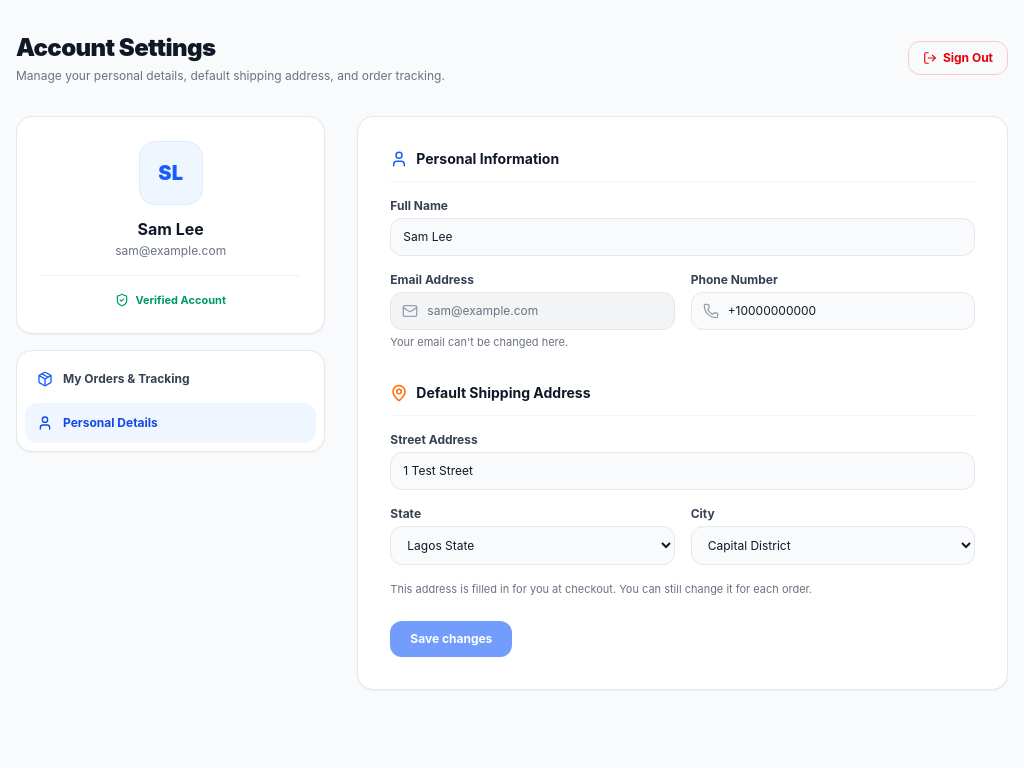
Profile page › changing the state clears the city and offers that state's cities
The width and height of the screenshot is (1024, 768).
Select "Bauchi State (Primary Local Hub)" in the dropdown labelled "State" at point(532, 545), box [390, 526, 675, 564]
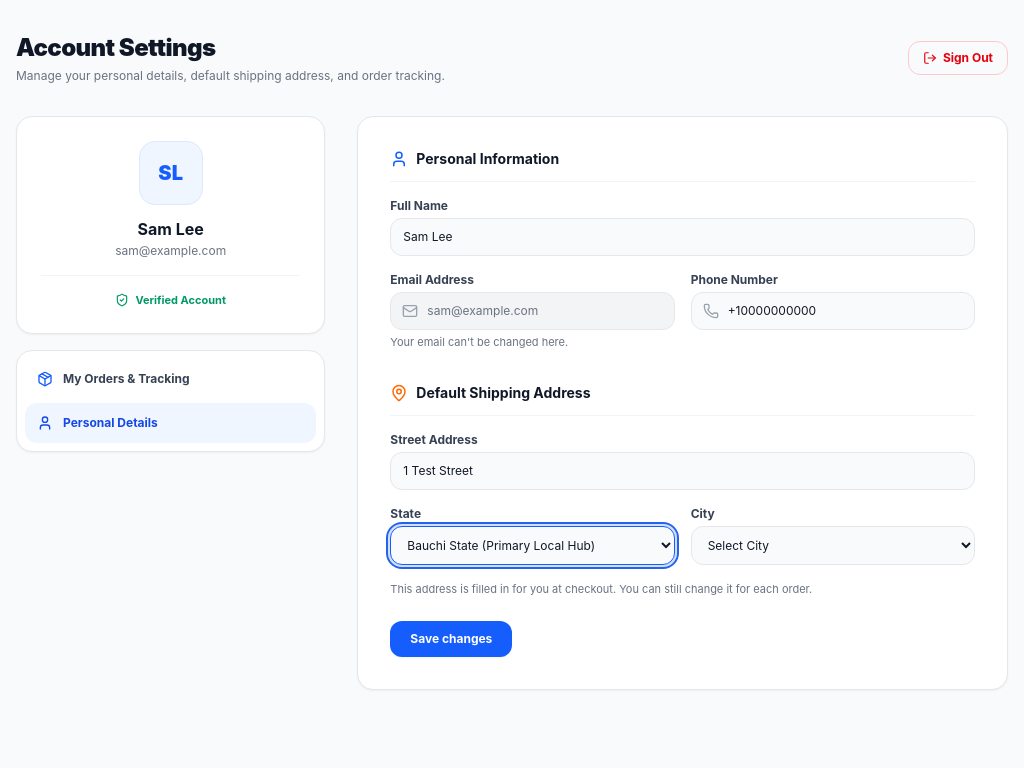
Expected: the option "Capital District" is not shown
Result: the dropdown labelled "City" shows "Select City" at [691, 526, 975, 564]
Result: the button "Save changes" is enabled at [390, 621, 512, 657]
